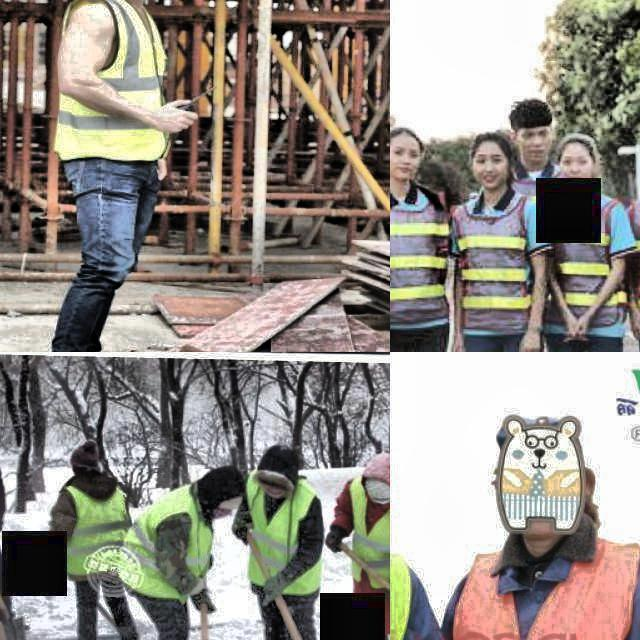safety_jacket: (458, 541, 640, 640), (65, 0, 165, 158), (449, 199, 544, 329), (546, 196, 630, 330), (129, 488, 216, 604), (246, 478, 325, 593), (62, 480, 130, 580), (390, 200, 454, 305), (346, 475, 390, 581)
